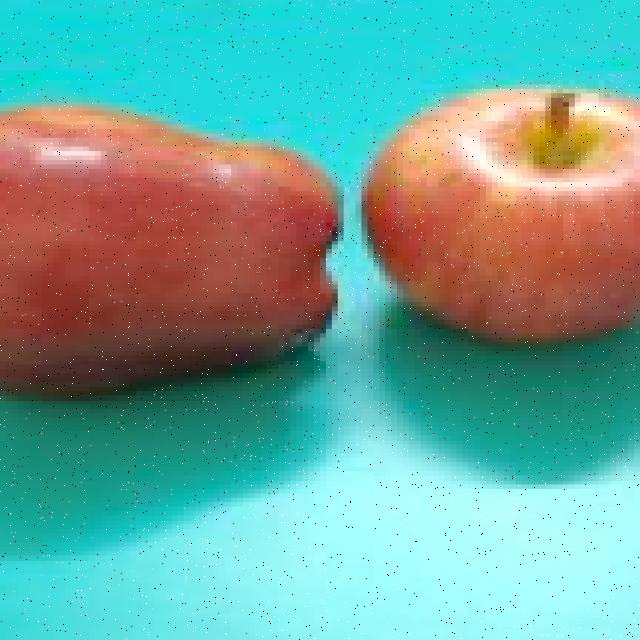Good_Apple 10-21 days: (0, 107, 341, 394), (364, 91, 640, 341)
